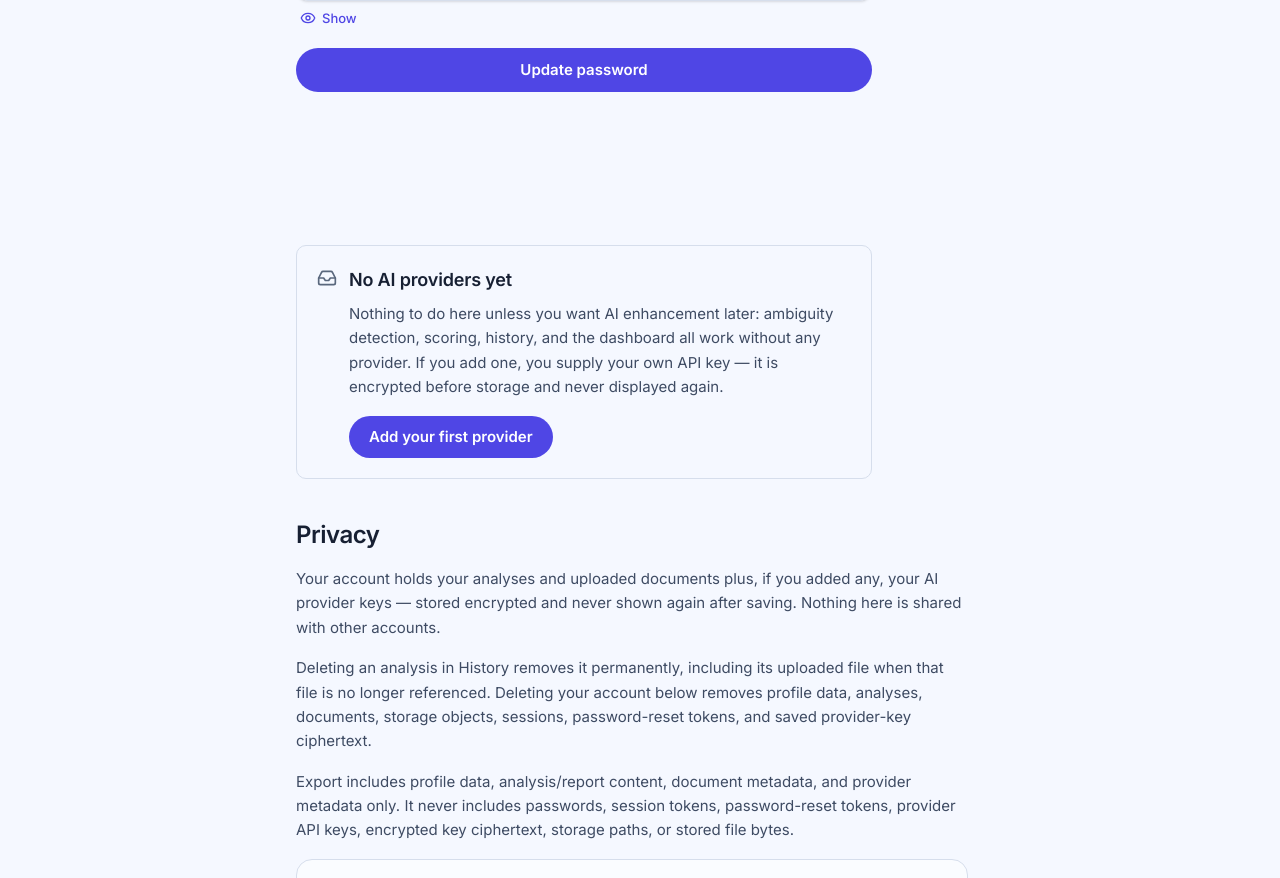
it: SettingsScreen add flow › validates provider and key client-side before any request
(page scrolled)
Click the button "Add your first provider" at (451,437), box [349,416,553,458]
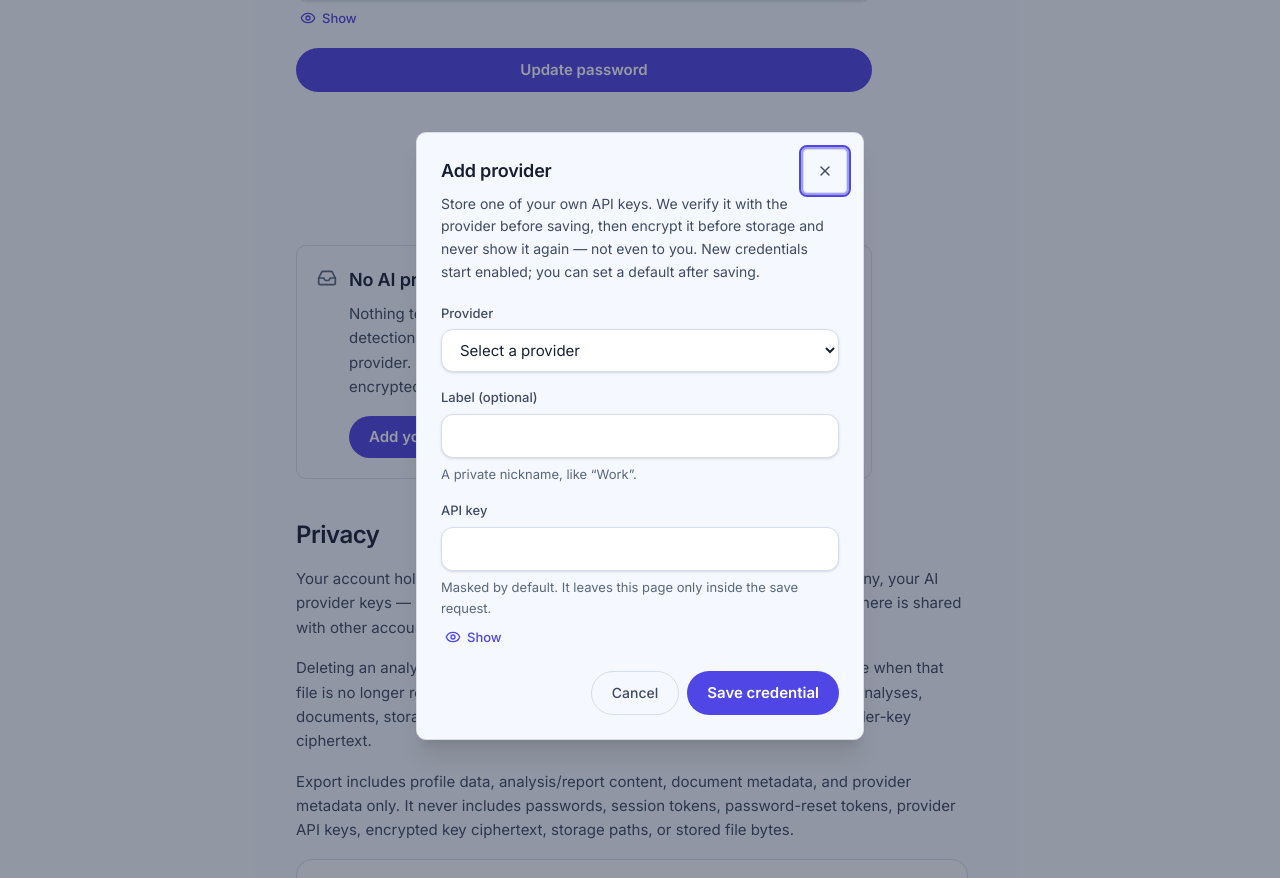
Click the button "Save credential" at (763,693), box [687,671,839,715]
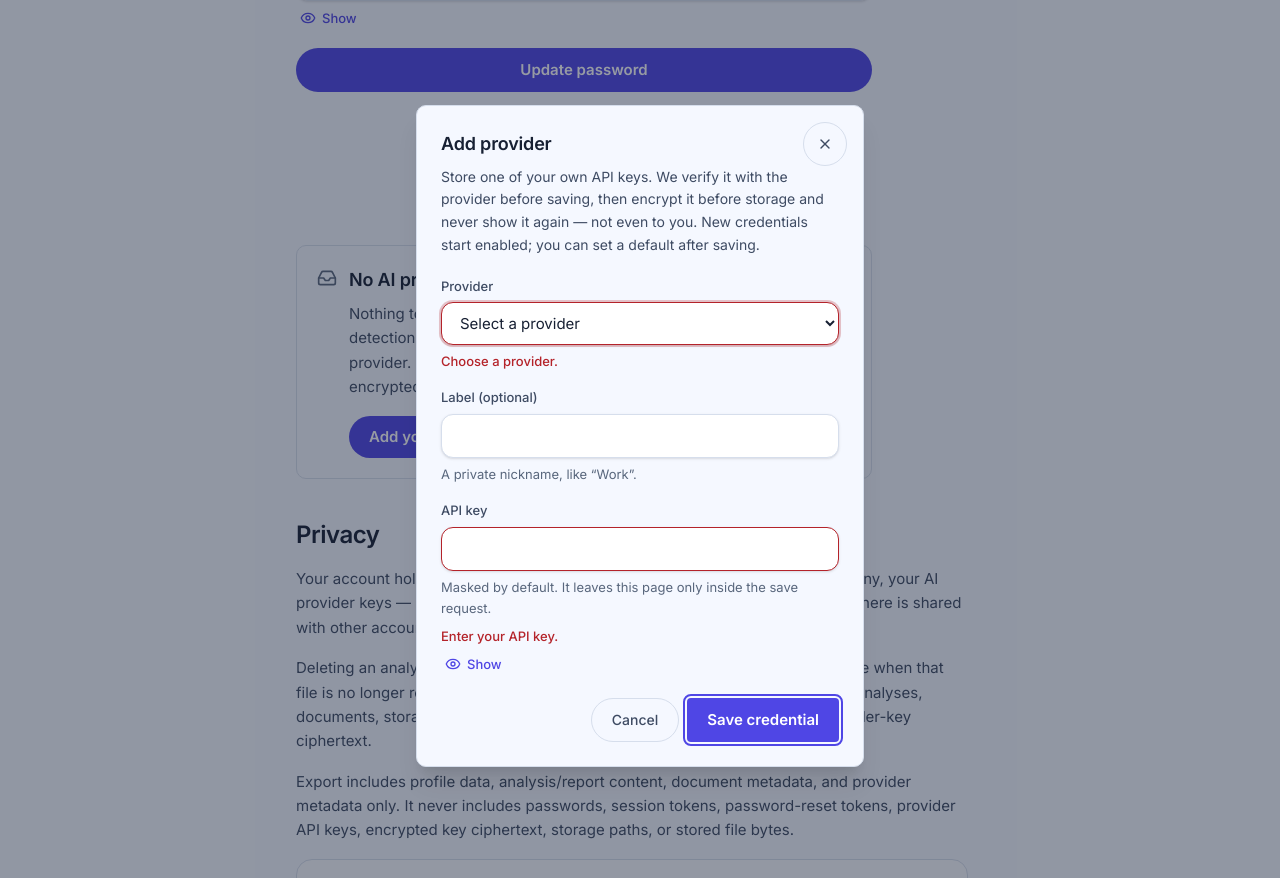
Expected: the text "Choose a provider." is shown, [441,353,558,369]
Expected: the text "Enter your API key." is shown, [441,628,558,644]
Select "OpenAI" in the dropdown labelled "Provider" at (640,324), box [441,302,839,345]
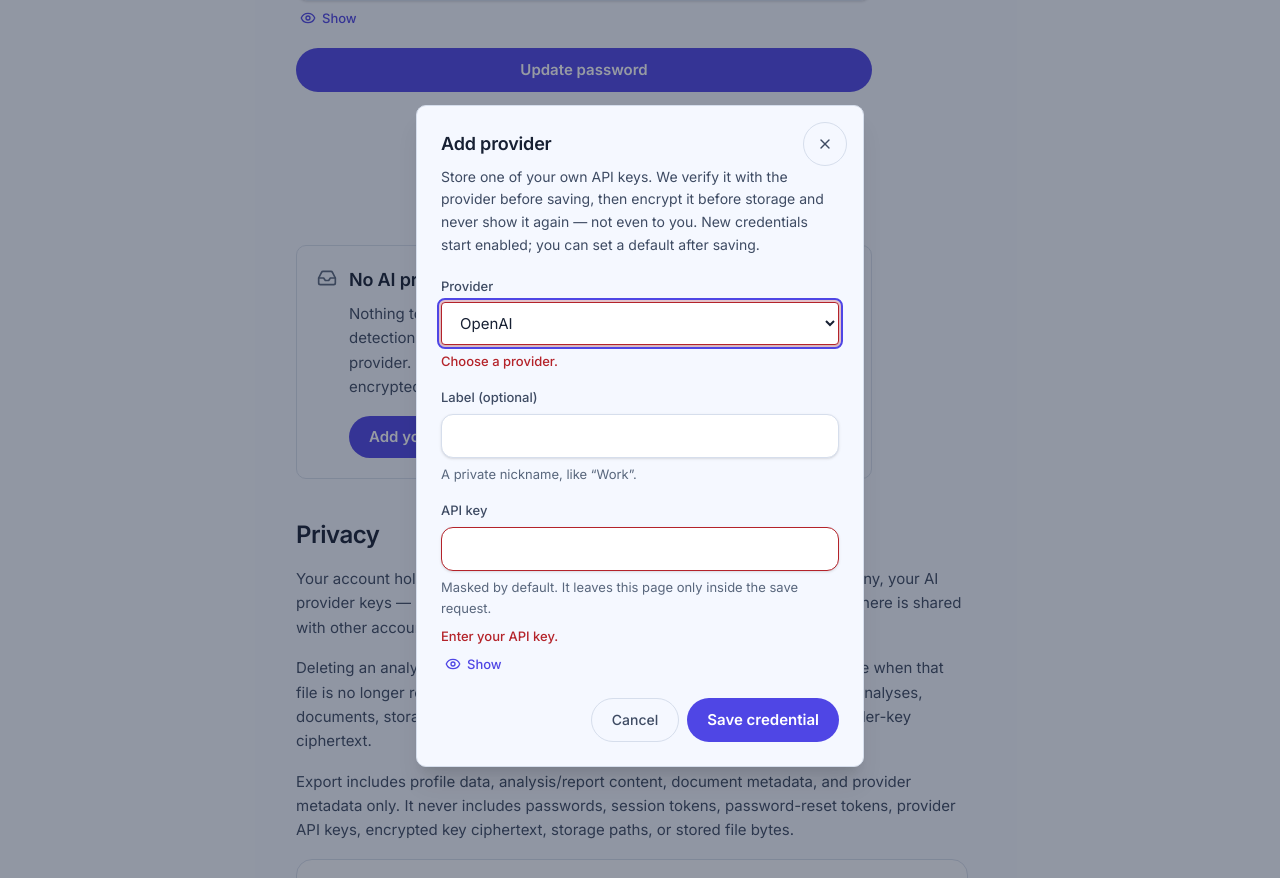
Type "abc" into the password field labelled "API key" at (640,549), box [441,527,839,571]
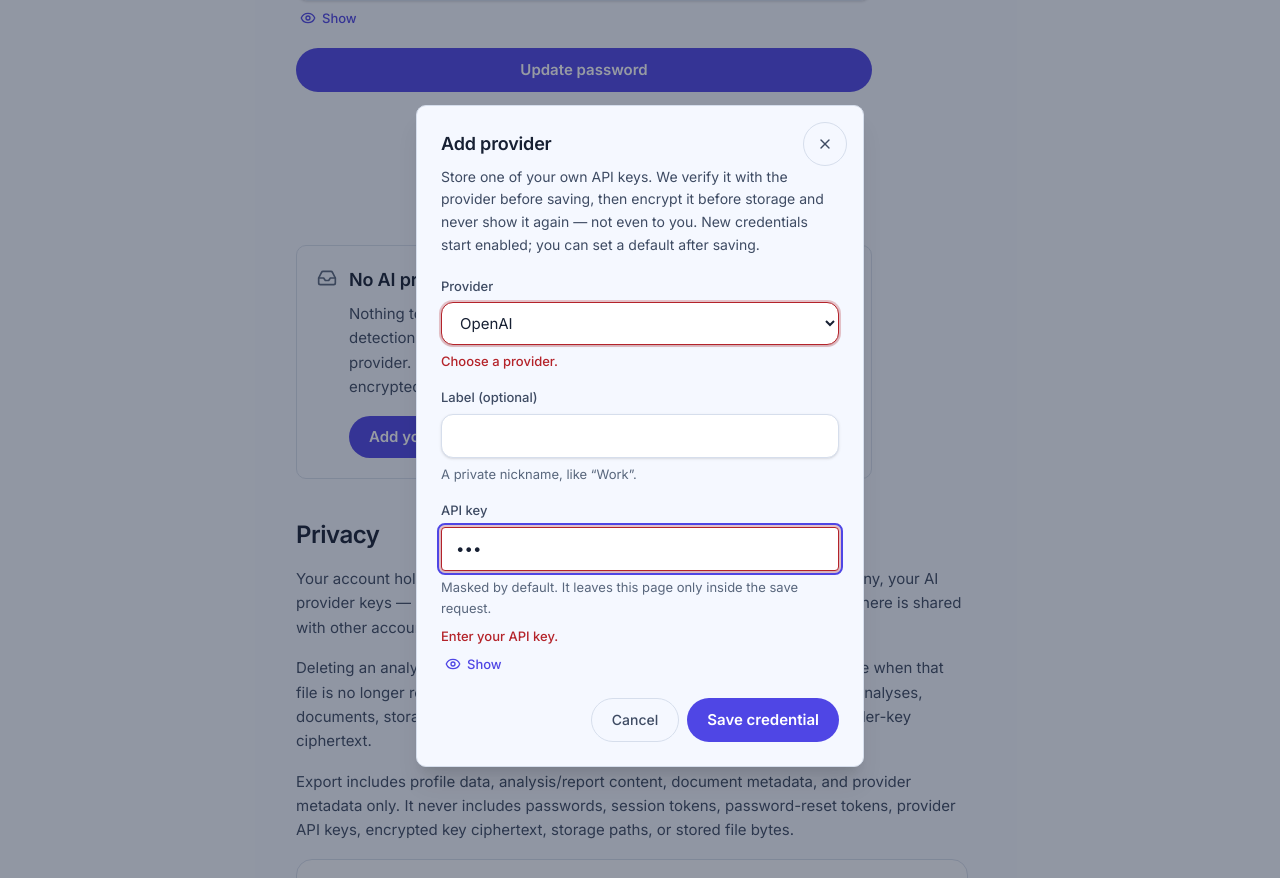
Click the button "Save credential" at (763,720), box [687,698,839,742]
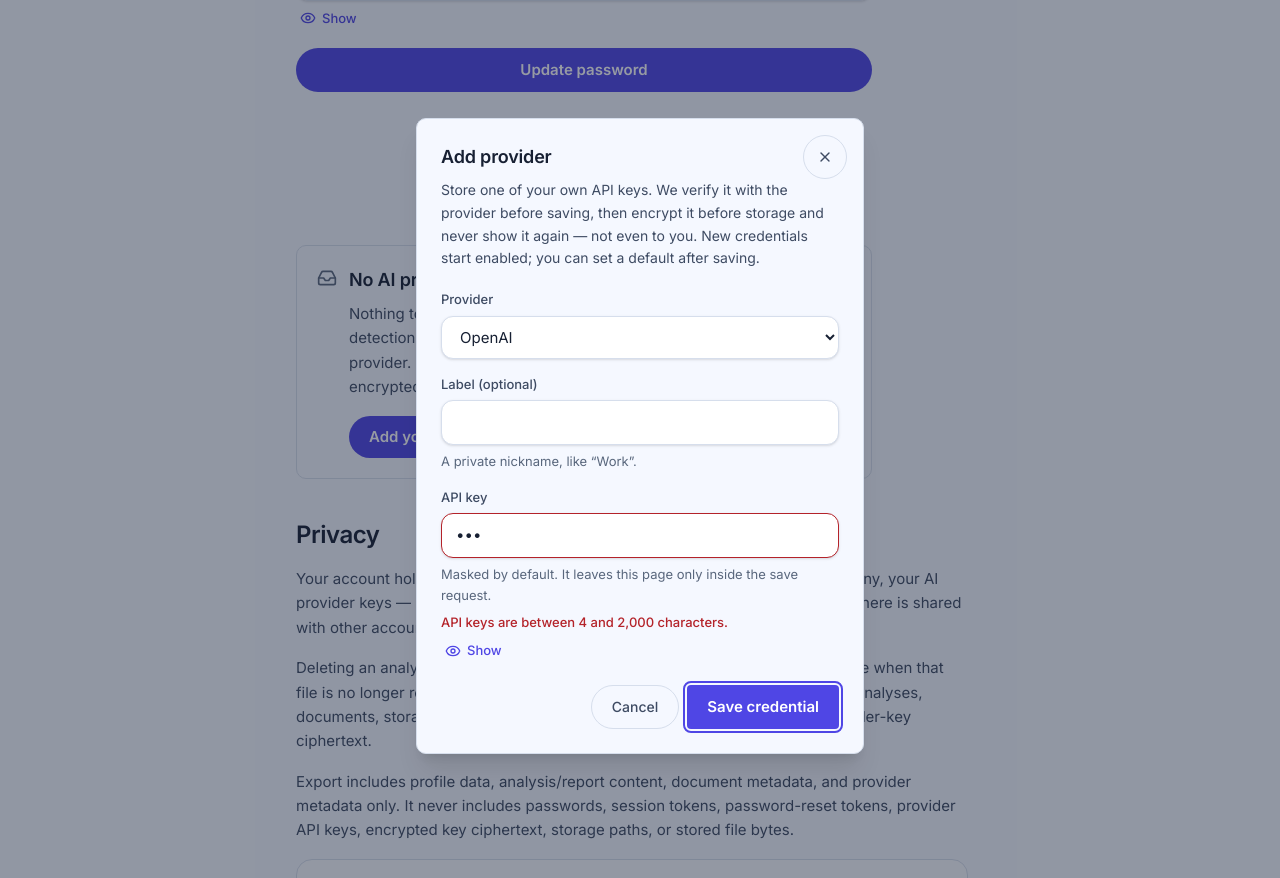
Expected: the text "API keys are between 4 and 2,000 characters." is shown, [441,614,728,630]
